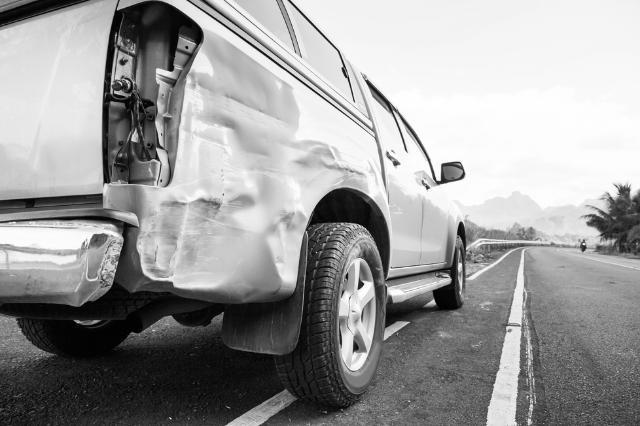Bumper: (0, 196, 143, 317)
Fender: (125, 26, 385, 298)
Light: (109, 1, 180, 190)
